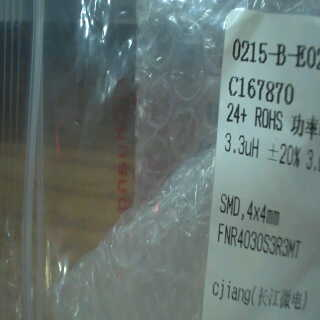3.3uH: (220, 128, 261, 162)
